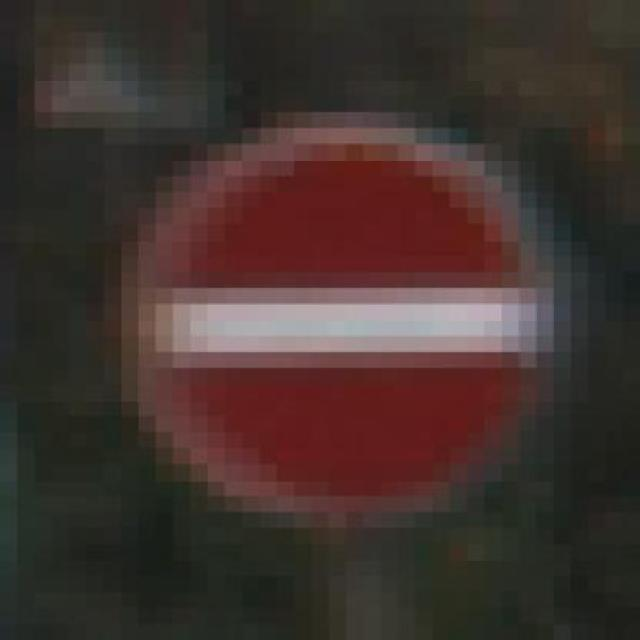No Entry: (86, 111, 571, 544)
